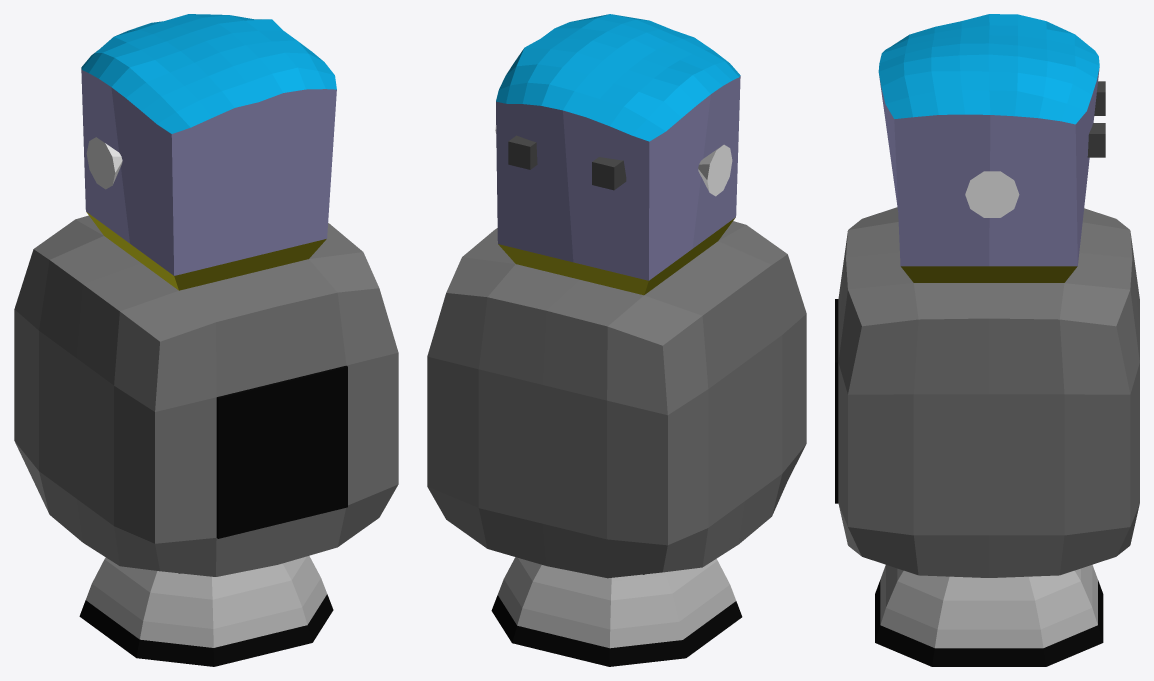
The model's file is Robot.fbx.
3 renders of one model, left to right at view 1: azimuth 30°, elevation 25°; view 2: azimuth 150°, elevation 25°; view 3: azimuth 270°, elevation 25°, orthographic.
Parts seen in each view (by area): view 1: Cube; view 2: Cube; view 3: Cube.
Boxes of the visible parts, bbox=[...] form: Cube: bbox=[14, 14, 398, 666]; Cube: bbox=[427, 14, 806, 666]; Cube: bbox=[835, 14, 1139, 666].
Size of the model in its own units: 200 by 423 by 202.
